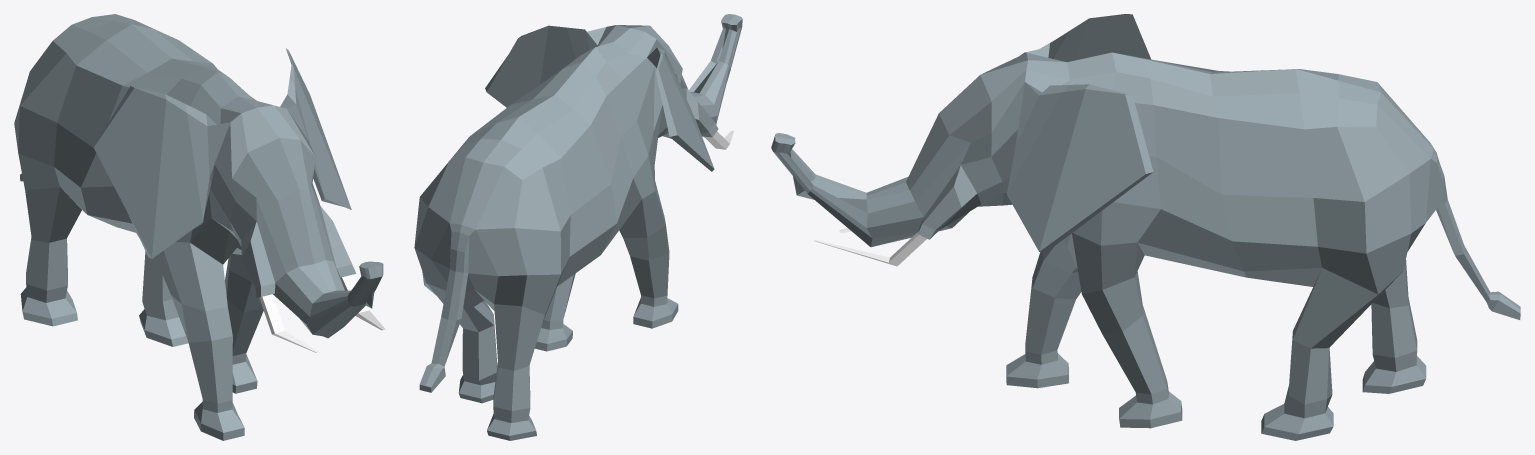
Rendered from Elefant4.fbx.
3 renders of one model, left to right at view 1: azimuth 30°, elevation 25°; view 2: azimuth 150°, elevation 25°; view 3: azimuth 270°, elevation 25°, orthographic. The views are drawn at different scales.
Visible parts, largest first — view 1: Elefant4; view 2: Elefant4; view 3: Elefant4.
Part boxes in pixels (left/top/right/bottom): Elefant4: left=14, top=14, right=385, bottom=440; Elefant4: left=414, top=14, right=742, bottom=440; Elefant4: left=771, top=14, right=1520, bottom=440.
Bounding box in the file's own units: 2.71 × 3.99 × 7.6.
